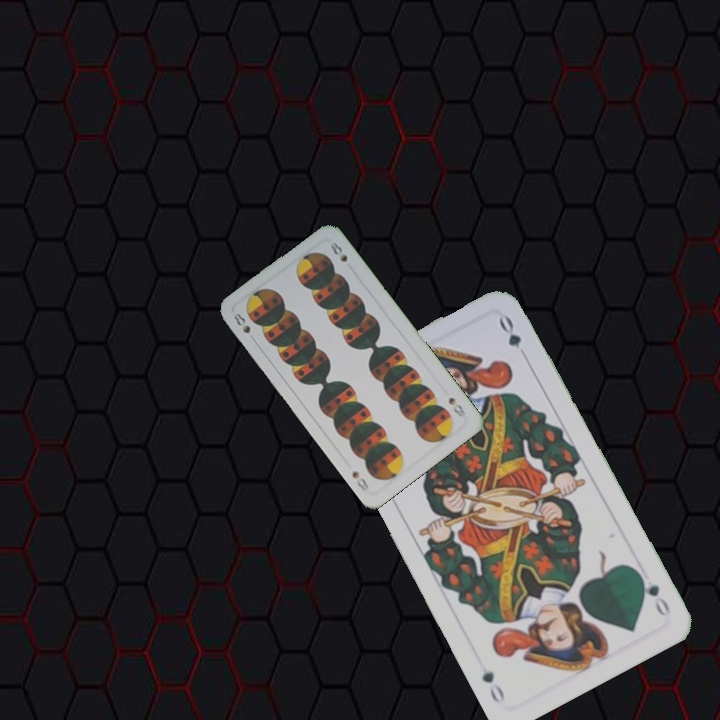GO: (633, 568, 673, 619)
S8: (229, 309, 259, 345), (444, 393, 468, 419)
